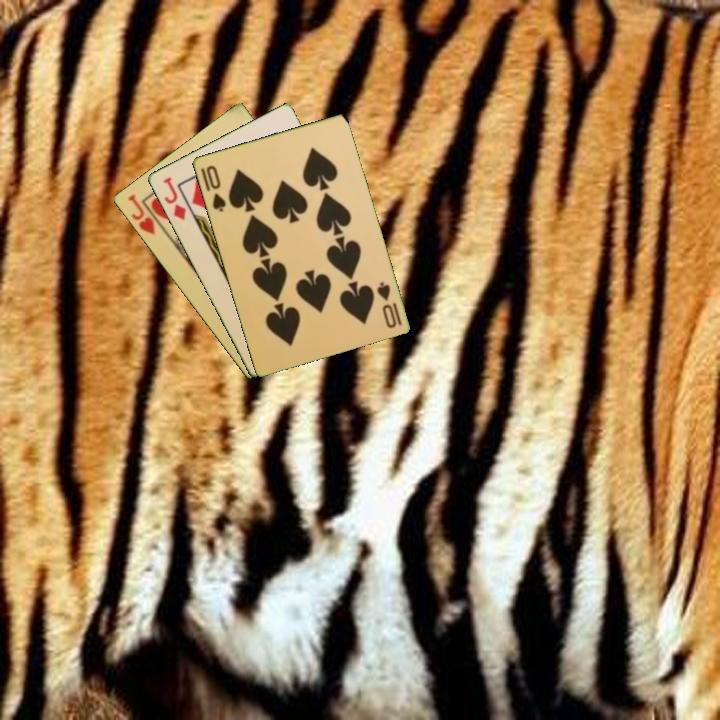10s: (373, 278, 404, 331), (202, 161, 228, 215)
Jd: (159, 173, 189, 223)
Jh: (124, 190, 158, 238)
